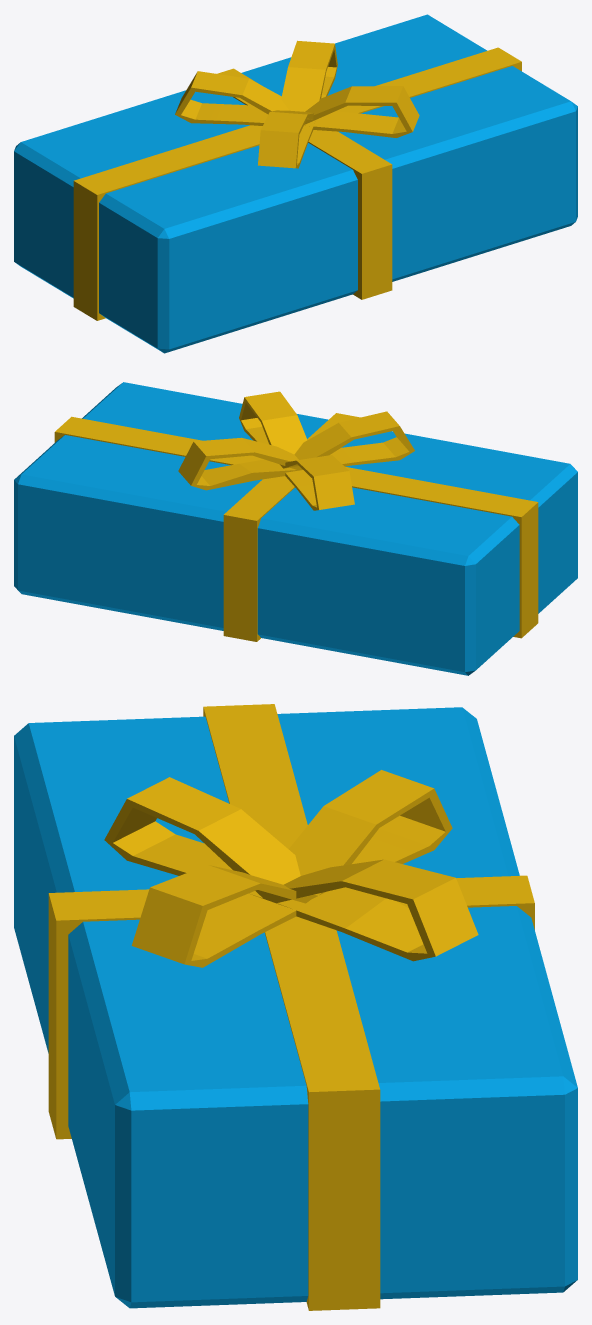
Rendered from gift5.fbx.
3 renders of one model, top to bottom at view 1: azimuth 30°, elevation 25°; view 2: azimuth 150°, elevation 25°; view 3: azimuth 270°, elevation 25°, orthographic. The views are drawn at different scales.
Visible parts, largest first — view 1: RedGift.001; view 2: RedGift.001; view 3: RedGift.001.
Boxes of the visible parts, x1,y1,x2,y2 form: RedGift.001: (14, 14, 577, 353); RedGift.001: (14, 382, 577, 675); RedGift.001: (14, 704, 577, 1310).
Size of the model in its own units: 91.83 by 30.02 by 55.08.
